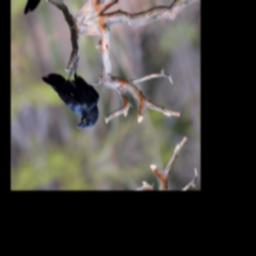Crow: (39, 53, 106, 144)
